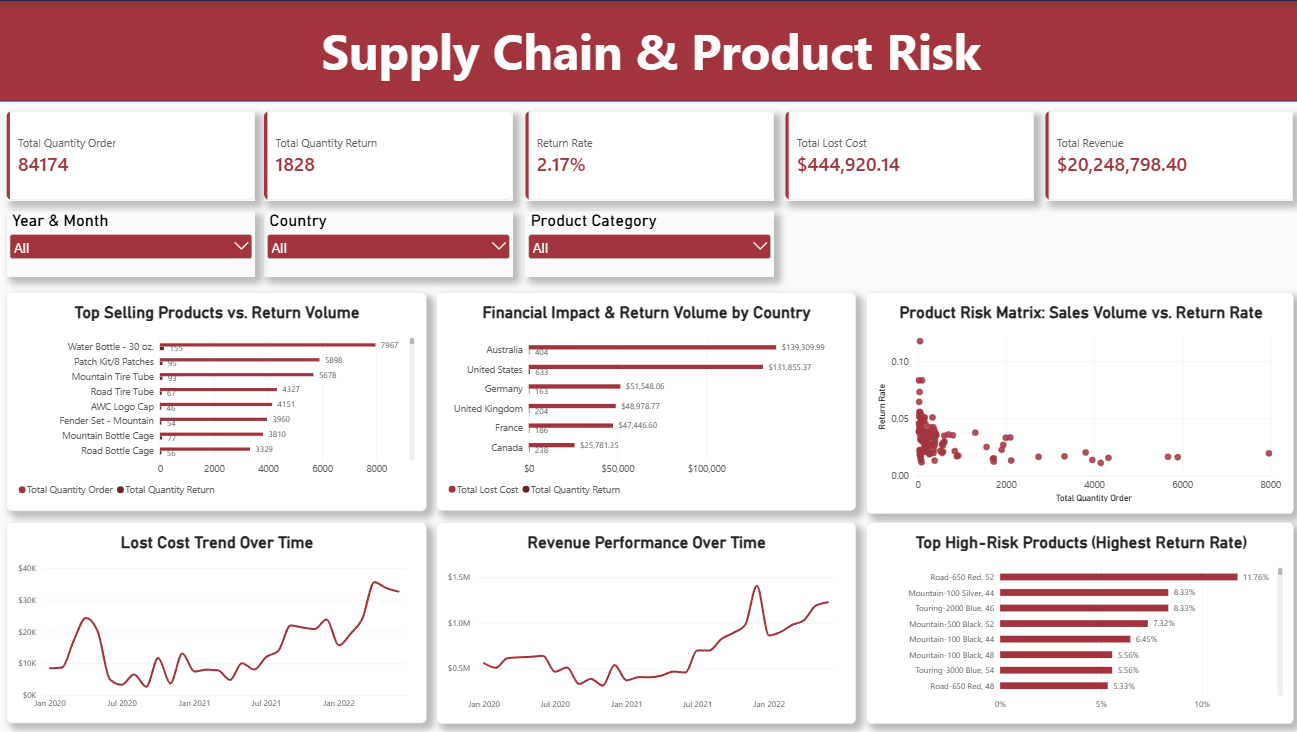

Layout of this report page (visuals, bound fields, positions):
{"tool":"powerbi","page":{"name":"Page 1","canvas":[1920,1080],"ordinal":0},"visuals":[{"type":"cardVisual","fields":{"Data":["Meassure.Total Quantitiy Order"]},"box":[10.3,162.6,366.4,131.7],"z":0},{"type":"cardVisual","fields":{"Data":["Meassure.Total Quantity Return"]},"box":[391.1,162.6,366.4,131.7],"z":1000},{"type":"cardVisual","fields":{"Data":["Meassure.Return Rate"]},"box":[773.9,162.6,366.4,131.7],"z":2000},{"type":"cardVisual","fields":{"Data":["Meassure.Total Lost Cost"]},"box":[1156.8,162.6,366.4,131.7],"z":3000},{"type":"cardVisual","fields":{"Data":["Meassure.Total Revenue"]},"box":[1539.6,162.6,366.4,131.7],"z":4000},{"type":"clusteredBarChart","title":"Top Selling Products vs. Return Volume","fields":{"Category":["public master_product.product_name"],"Y":["Meassure.Total Quantity Order","Meassure.Total Quantity Return"]},"box":[11,428.8,618.4,322.1],"z":5000},{"type":"clusteredBarChart","title":"Financial Impact & Return Volume by Country","fields":{"Category":["public adventureworks_territory_lookup.Country"],"Y":["Meassure.Total Lost Cost","Meassure.Total Quantity Return"]},"box":[644.9,429,617.4,321.7],"z":6000},{"type":"scatterChart","title":"Product Risk Matrix: Sales Volume vs. Return Rate","fields":{"Category":["public master_product.product_name"],"X":["Meassure.Total Quantitiy Order"],"Y":["Meassure.Return Rate"]},"box":[1276.8,429,630.4,326.1],"z":7000},{"type":"lineChart","title":"Lost Cost Trend Over Time","fields":{"Category":["public adventureworks_calendar_lookup.Date.Variation.Date Hierarchy.Year","public adventureworks_calendar_lookup.Date.Variation.Date Hierarchy.Month"],"Y":["Meassure.Total Lost Cost"]},"box":[11,767.5,618.4,296.3],"z":8000},{"type":"lineChart","title":"Revenue Performance Over Time","fields":{"Category":["public adventureworks_calendar_lookup.Date.Variation.Date Hierarchy.Year","public adventureworks_calendar_lookup.Date.Variation.Date Hierarchy.Month"],"Y":["Meassure.Total Revenue"]},"box":[644.9,766.7,617.4,297.1],"z":9000},{"type":"slicer","fields":{"Values":["public adventureworks_calendar_lookup.Date.Variation.Date Hierarchy.Year","public adventureworks_calendar_lookup.Date.Variation.Date Hierarchy.Month"]},"box":[10.3,308.7,366.4,96.7],"z":10000},{"type":"slicer","fields":{"Values":["public adventureworks_territory_lookup.Country"]},"box":[391.1,308.7,366.4,96.7],"z":11000},{"type":"shape","box":[0,0,1920.4,148.2],"z":12000},{"type":"slicer","fields":{"Values":["public master_product.product_category","public master_product.product_name"]},"box":[773.9,308.7,366.4,96.7],"z":13000},{"type":"clusteredBarChart","title":"Top High-Risk Products (Highest Return Rate)","fields":{"Category":["public master_product.product_name"],"Y":["Meassure.Return Rate"]},"box":[1276.8,766.7,630.4,297.1],"z":14000},{"type":"textbox","box":[0,24.7,1920.4,96.7],"z":16000}]}

Visuals, with their boxes in screenshot pixels (x1, y1, x2, y2), scaled from the page's 1920x1080 canvas onto the 1297x732 screenshot:
cardVisual - Meassure.Total Quantitiy Order: (7, 110, 254, 199)
cardVisual - Meassure.Total Quantity Return: (264, 110, 512, 199)
cardVisual - Meassure.Return Rate: (523, 110, 770, 199)
cardVisual - Meassure.Total Lost Cost: (781, 110, 1029, 199)
cardVisual - Meassure.Total Revenue: (1040, 110, 1288, 199)
"Top Selling Products vs. Return Volume" clusteredBarChart: (7, 291, 425, 509)
"Financial Impact & Return Volume by Country" clusteredBarChart: (436, 291, 853, 509)
"Product Risk Matrix: Sales Volume vs. Return Rate" scatterChart: (863, 291, 1288, 512)
"Lost Cost Trend Over Time" lineChart: (7, 520, 425, 721)
"Revenue Performance Over Time" lineChart: (436, 520, 853, 721)
slicer - public adventureworks_calendar_lookup.Date.Variation.Date Hierarchy.Year x public adventureworks_calendar_lookup.Date.Variation.Date Hierarchy.Month: (7, 209, 254, 275)
slicer - public adventureworks_territory_lookup.Country: (264, 209, 512, 275)
shape: (0, 0, 1296, 100)
slicer - public master_product.product_category x public master_product.product_name: (523, 209, 770, 275)
"Top High-Risk Products (Highest Return Rate)" clusteredBarChart: (863, 520, 1288, 721)
textbox: (0, 17, 1296, 82)
